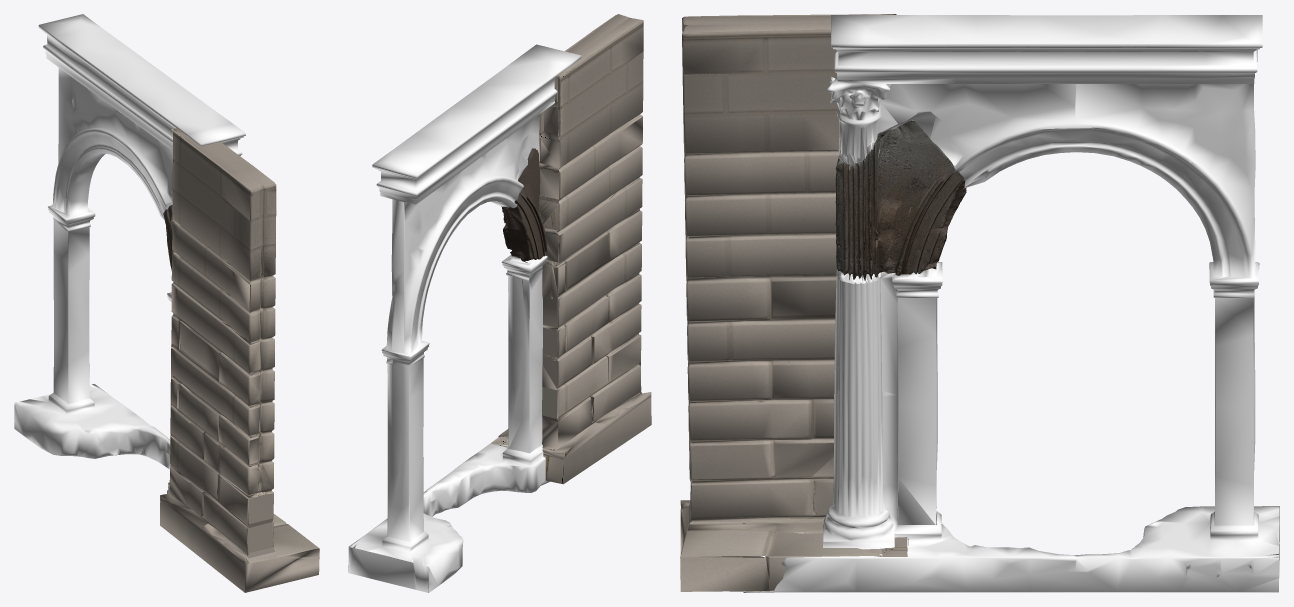
File: arcageo.glb
3 renders of one model, left to right at view 1: azimuth 30°, elevation 25°; view 2: azimuth 150°, elevation 25°; view 3: azimuth 270°, elevation 25°, orthographic. The views are drawn at different scales.
Visible parts, largest first — view 1: arca; view 2: arca; view 3: arca.
Boxes of the visible parts, bbox=[...] form: arca: bbox=[14, 14, 319, 592]; arca: bbox=[348, 14, 651, 592]; arca: bbox=[680, 14, 1279, 592].
Bounding box in the file's own units: 1.19 × 5.65 × 5.71.
Materials: 4 (3 with a texture image).
